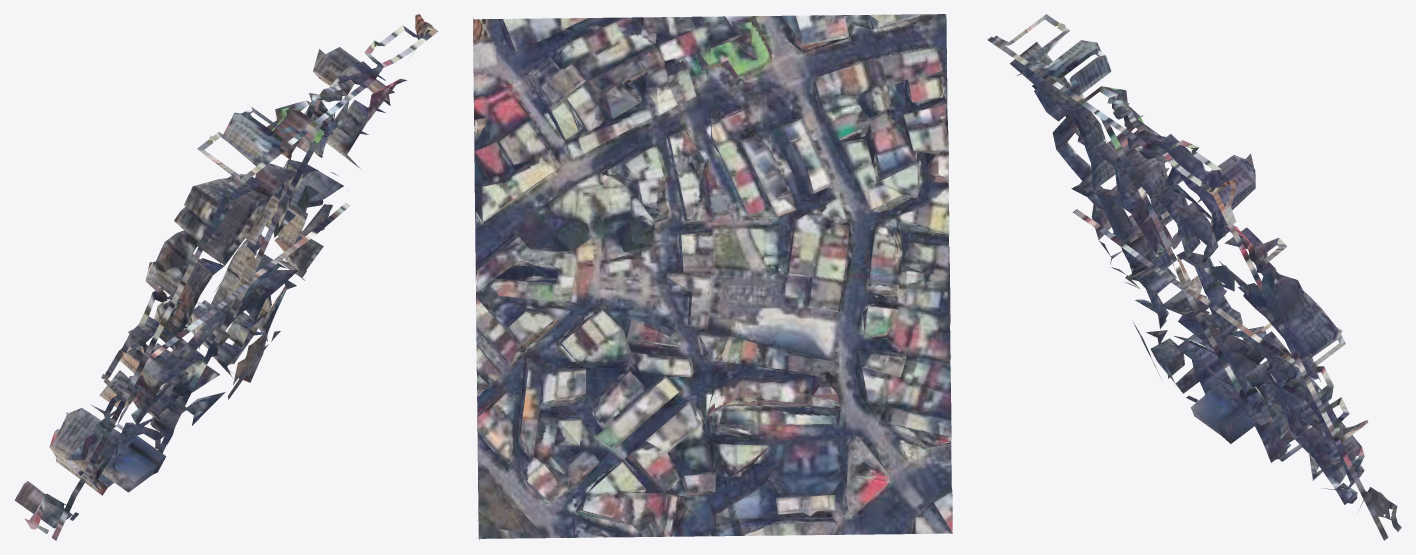
3 views of the same model, side by side, from view 1: azimuth 30°, elevation 25°; view 2: azimuth 150°, elevation 25°; view 3: azimuth 270°, elevation 25° (orthographic). The views are drawn at different scales.
Size of the model in its own units: 316 by 294 by 266.
Materials: 1 (1 with a texture image).
